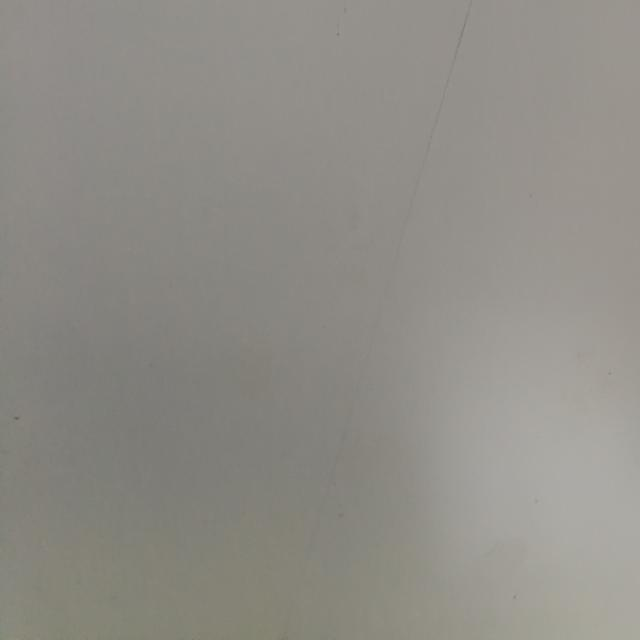fluorescent tube: (332, 0, 640, 27)
